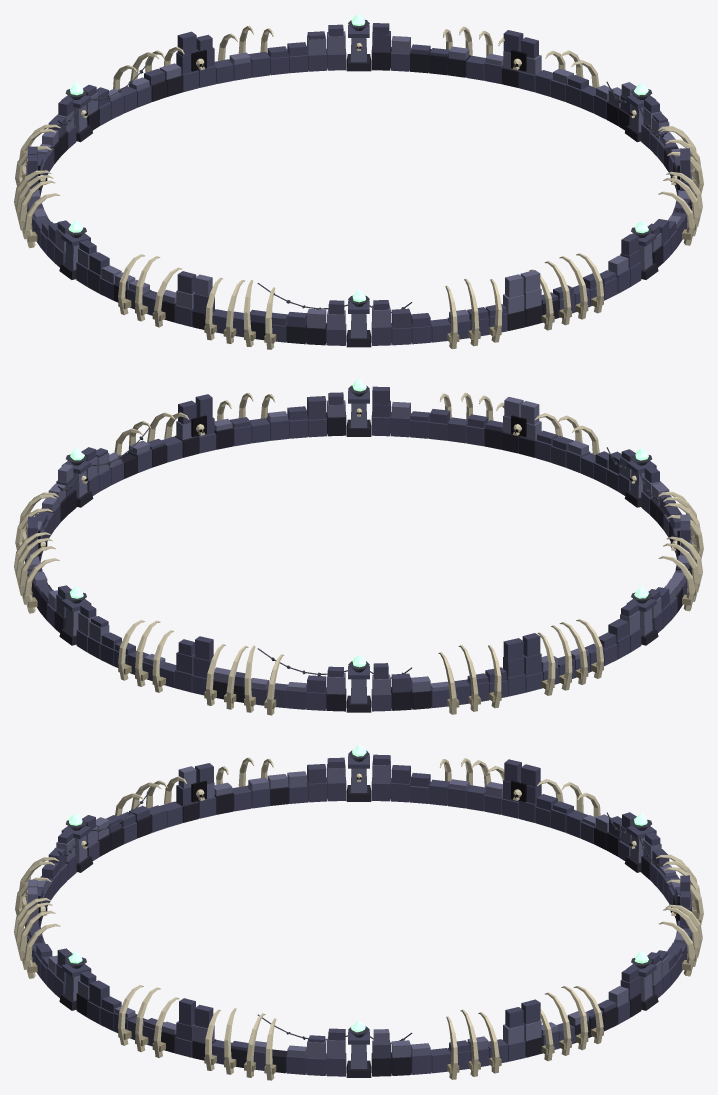
Rendered from Totenreich_Ring.fbx.
3 renders of one model, top to bottom at view 1: azimuth 30°, elevation 25°; view 2: azimuth 150°, elevation 25°; view 3: azimuth 270°, elevation 25°, orthographic.
Visible parts, largest first — view 1: Totenreich_Ring; view 2: Totenreich_Ring; view 3: Totenreich_Ring.
Boxes of the visible parts, x1,y1,x2,y2 form: Totenreich_Ring: (14,14,703,349); Totenreich_Ring: (14,378,703,715); Totenreich_Ring: (14,744,703,1080).
Size of the model in its own units: 35.5 by 3.42 by 36.15.
